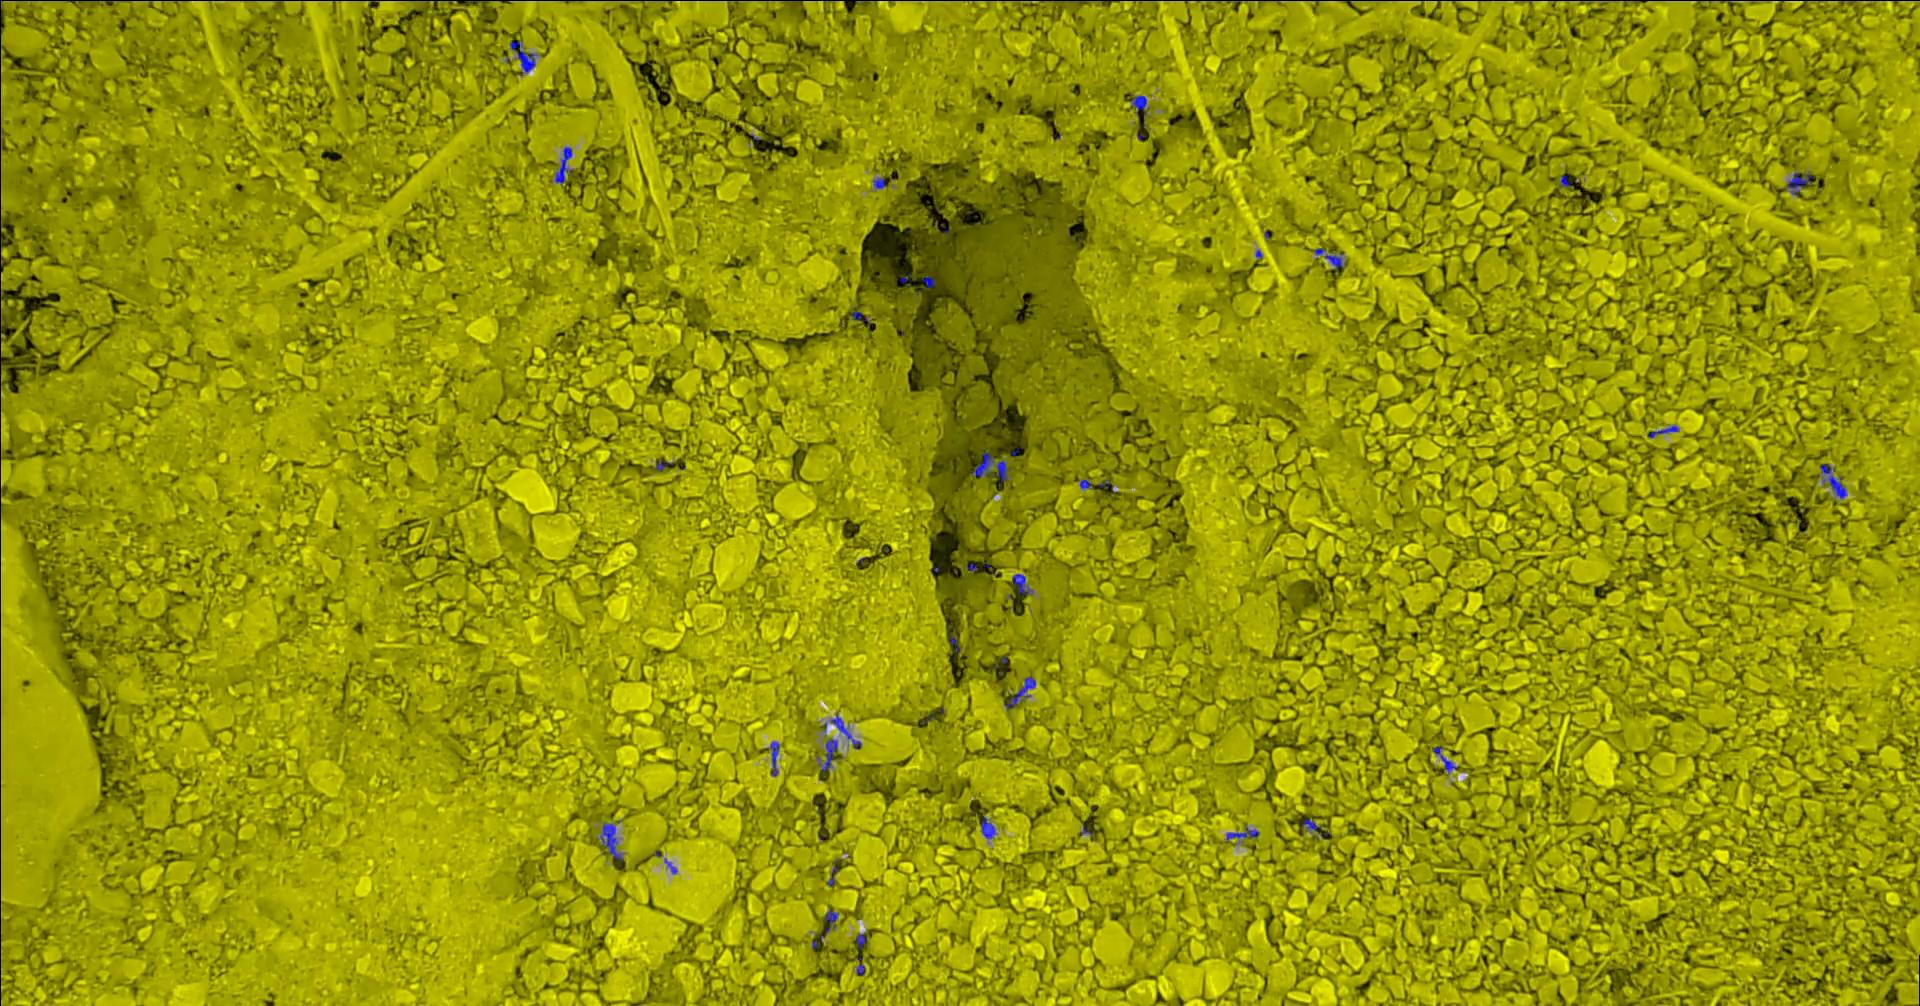ant: (971, 451, 1007, 481), (830, 714, 861, 748), (1004, 676, 1035, 708), (599, 822, 623, 861), (509, 39, 536, 75), (1820, 464, 1846, 498), (1313, 246, 1345, 269), (1432, 746, 1458, 774), (554, 146, 571, 184), (1783, 171, 1811, 196), (817, 738, 837, 771), (1225, 826, 1258, 841), (764, 741, 778, 775), (1012, 573, 1032, 594), (823, 908, 838, 934), (1647, 426, 1677, 437), (980, 815, 996, 838), (1302, 818, 1323, 832), (1129, 95, 1148, 111), (851, 310, 869, 321), (855, 934, 867, 949), (872, 177, 885, 188)
